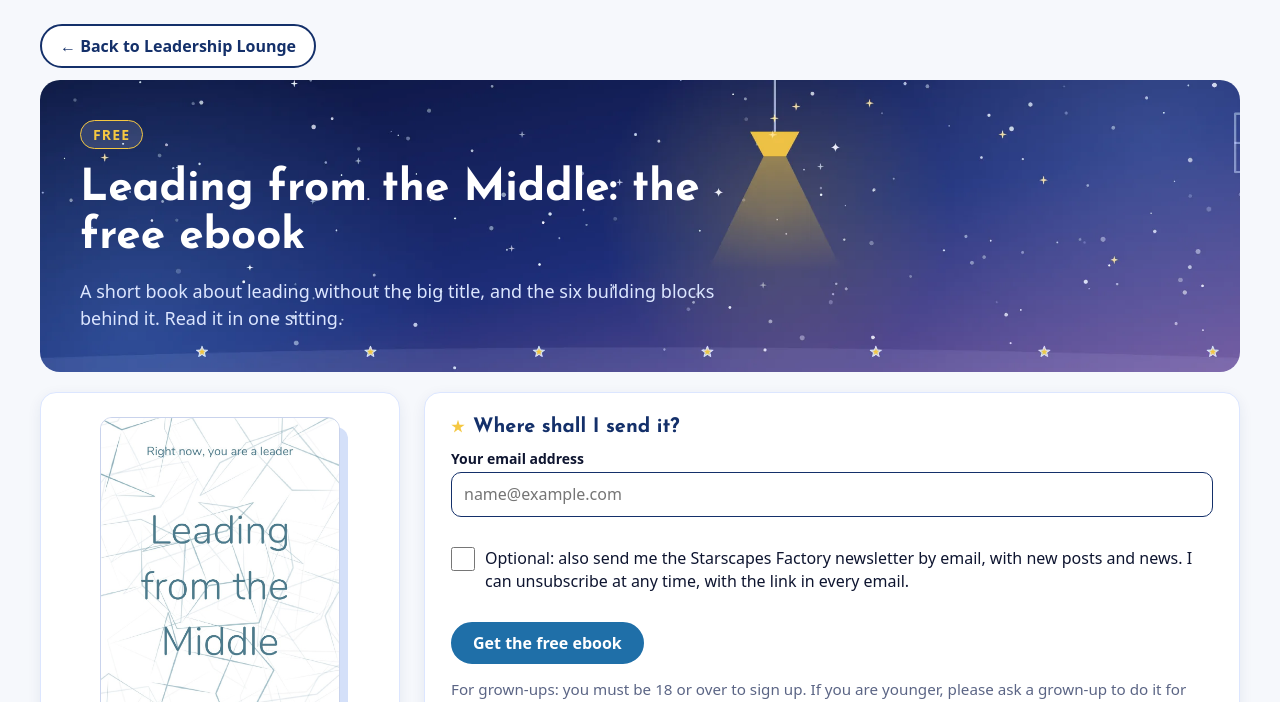
Test case: the page › asks for the ebook with no tick: the lower-cased email, the newsletter box left unticked (false), the hidden box (empty), and where it came from
Type "Name@Example.com" into the field labelled "Your email address" at (832, 495), box [451, 472, 1213, 517]
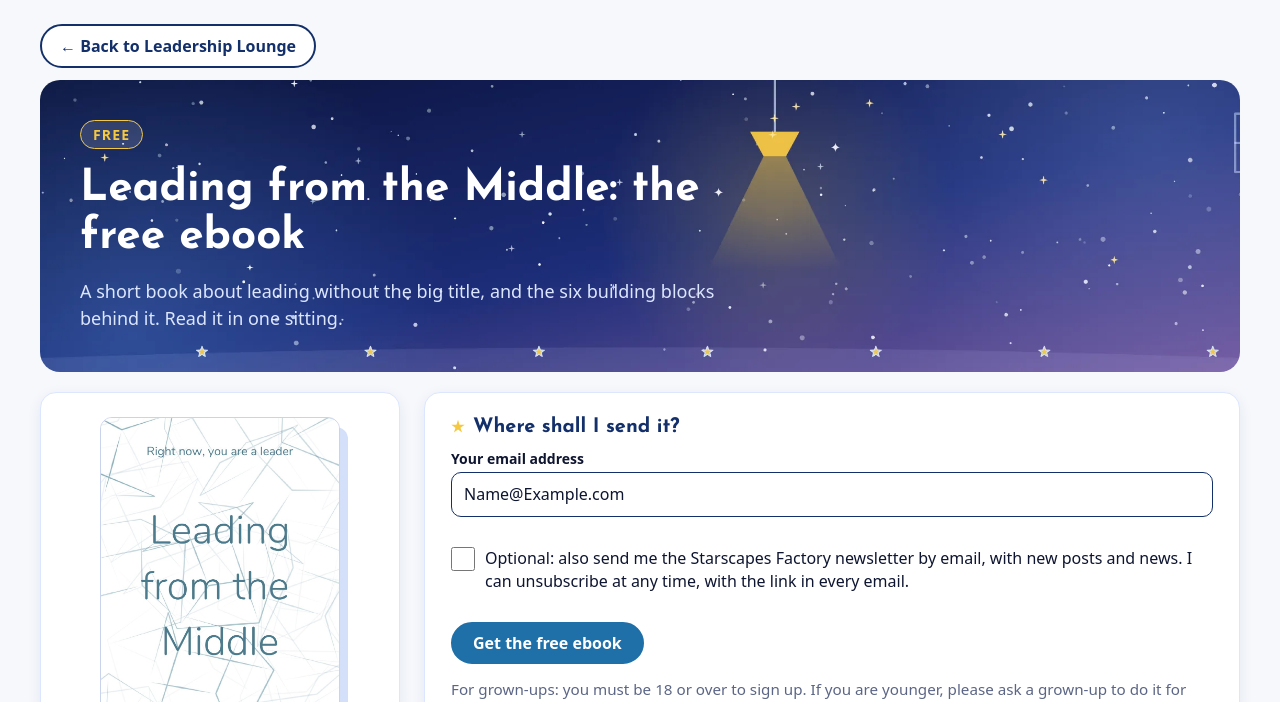
Click the button "Get the free ebook" at (547, 643), box [451, 622, 644, 664]
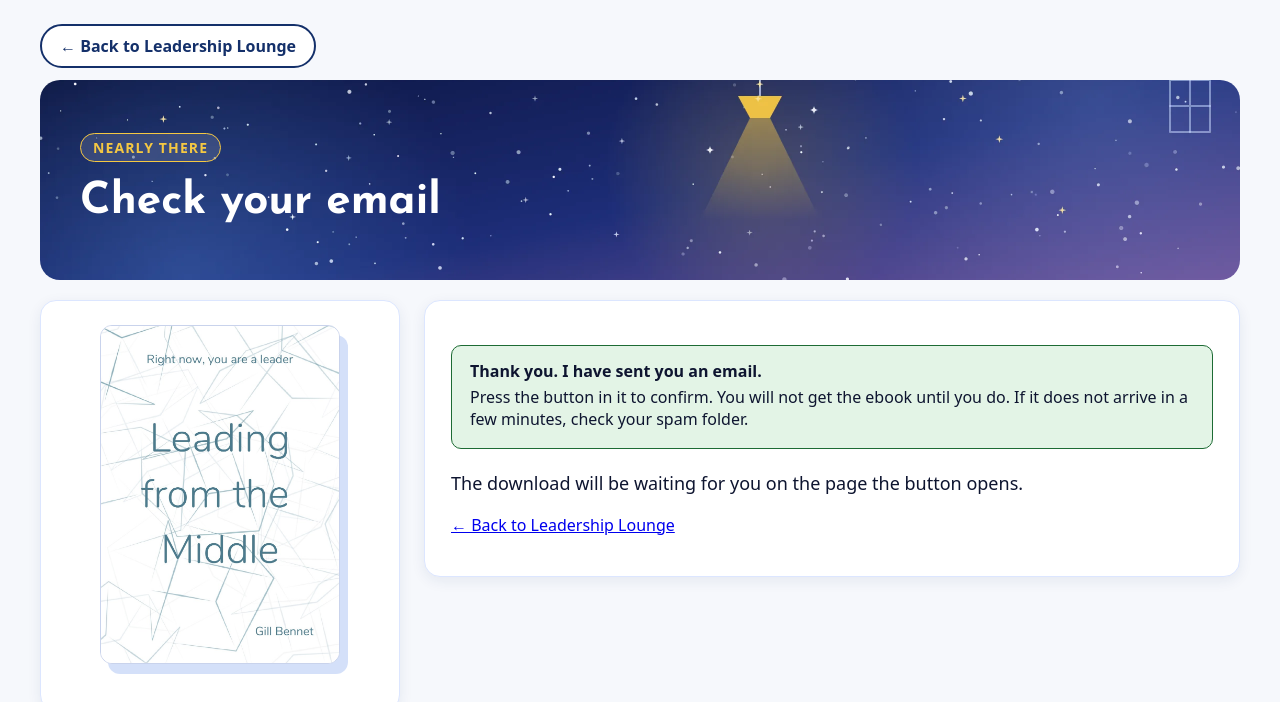
Expected: the heading "Check your email" is shown, [80, 178, 441, 227]
